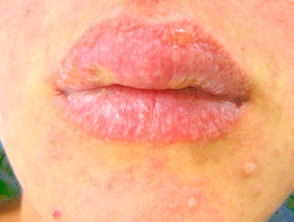SJS-TEN: (27, 9, 267, 222)
